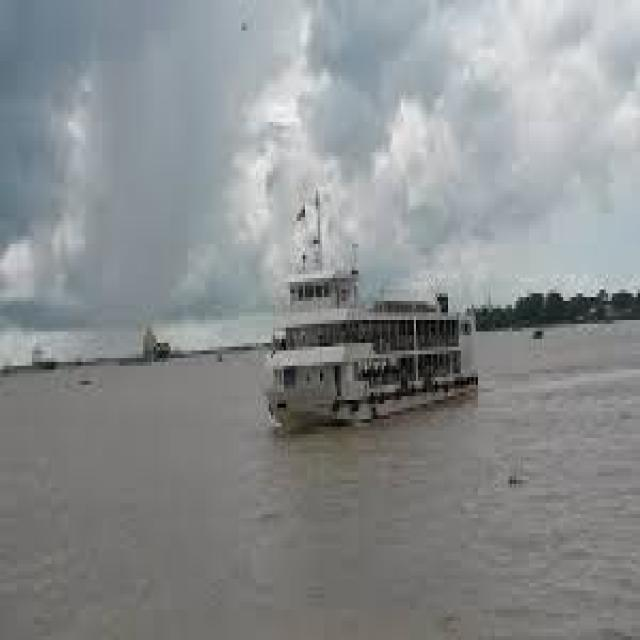passenger ship: (244, 233, 475, 421)
